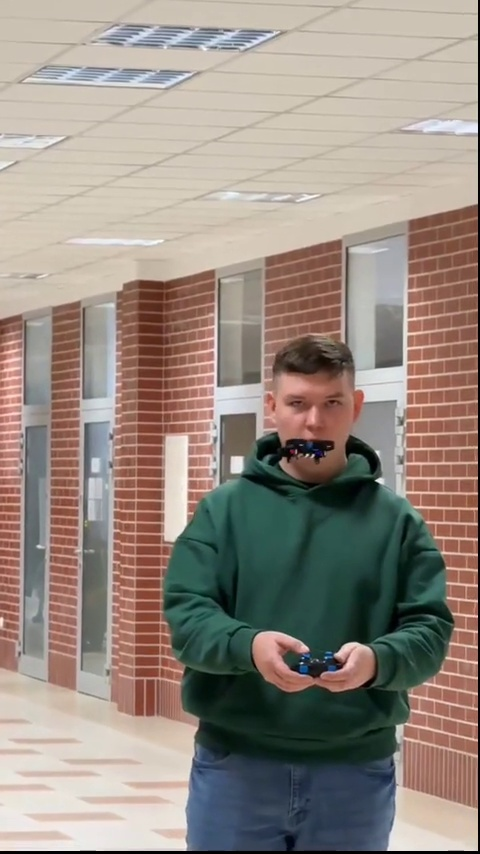drone: (281, 440, 335, 464)
no vest: (165, 330, 460, 853)
